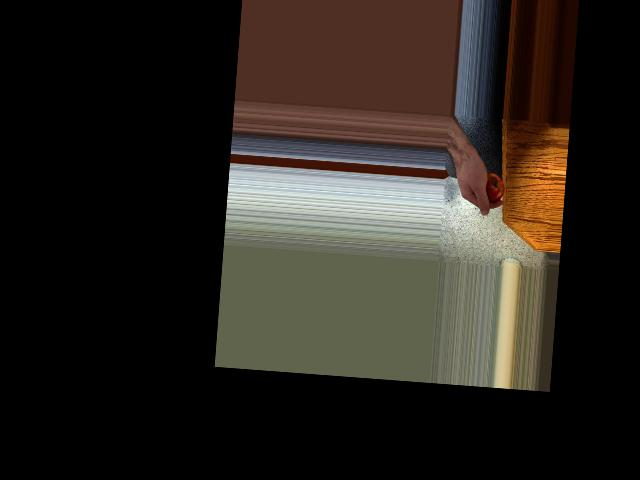apple: (477, 176, 507, 206)
